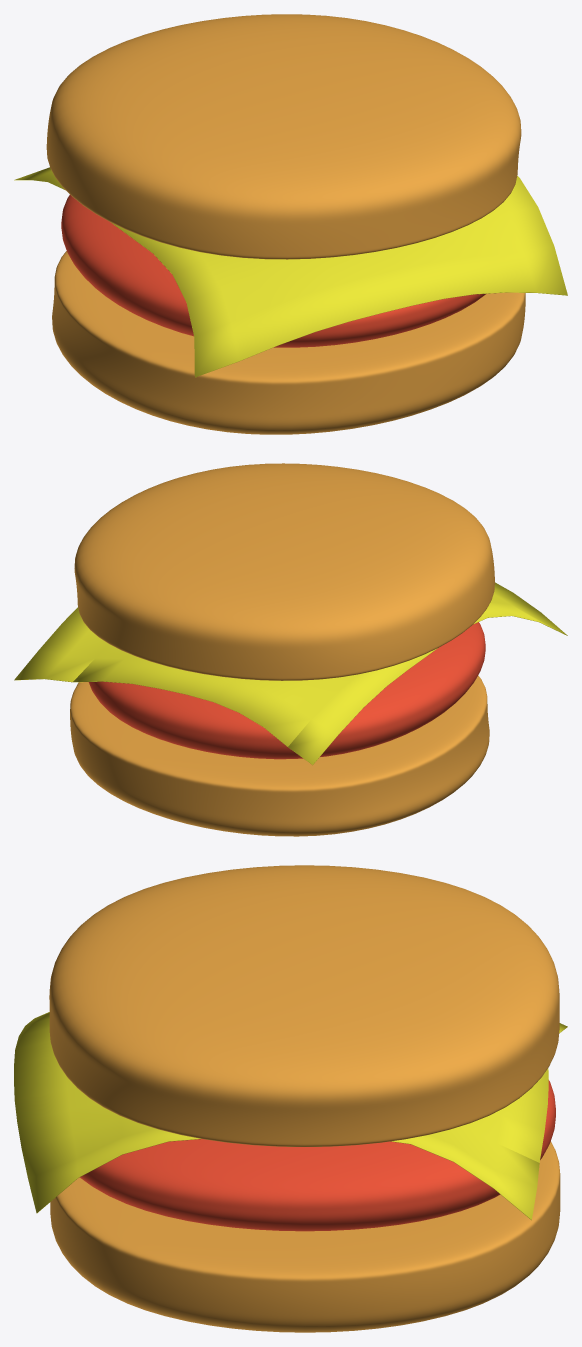
The model's file is hamburger.glb.
3 views of the same model, one above another, from view 1: azimuth 30°, elevation 25°; view 2: azimuth 150°, elevation 25°; view 3: azimuth 270°, elevation 25° (orthographic). The views are drawn at different scales.
Visible parts, largest first — view 1: Cube.002, Cube, Plane, Cube.001; view 2: Cube.002, Cube, Plane, Cube.001; view 3: Cube.002, Cube, Cube.001, Plane.
Boxes of the visible parts, bbox=[...] form: Cube.002: bbox=[46, 14, 521, 259]; Cube: bbox=[52, 251, 525, 434]; Plane: bbox=[14, 167, 567, 377]; Cube.001: bbox=[61, 195, 486, 347]; Cube.002: bbox=[74, 463, 494, 680]; Cube: bbox=[70, 675, 489, 836]; Plane: bbox=[14, 582, 567, 764]; Cube.001: bbox=[88, 622, 485, 759]; Cube.002: bbox=[49, 865, 559, 1146]; Cube: bbox=[50, 1141, 560, 1332]; Cube.001: bbox=[80, 1080, 555, 1231]; Plane: bbox=[14, 1012, 567, 1220].
Size of the model in its own units: 10.33 by 6.59 by 10.92.
